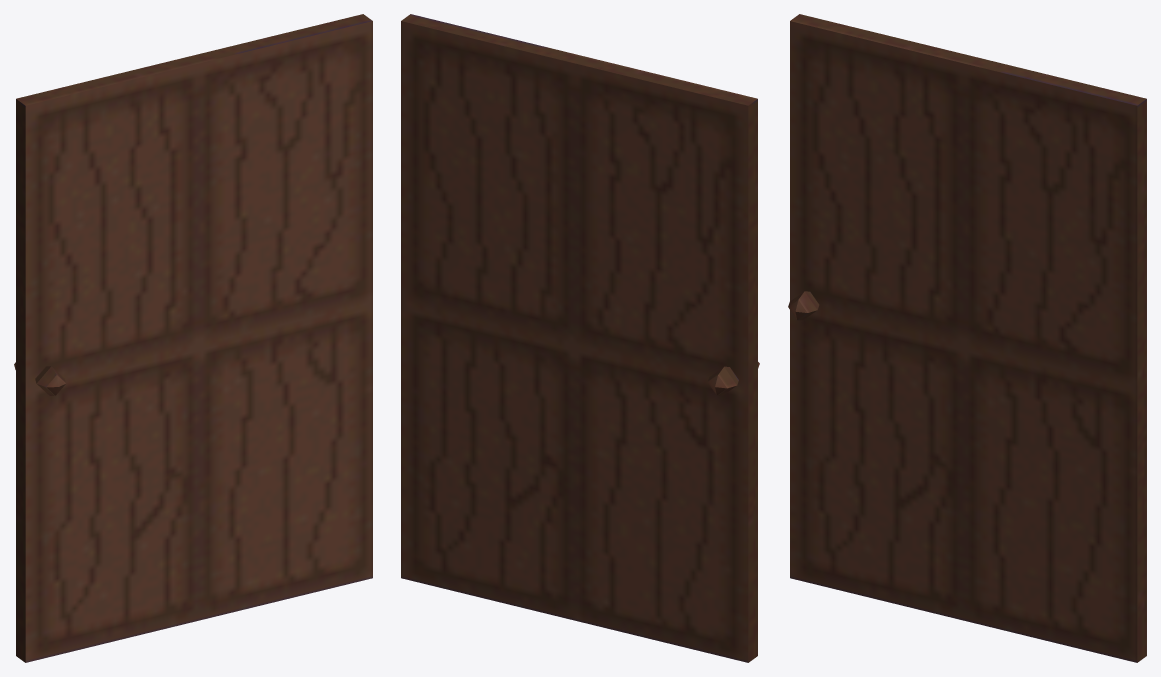
File: woodendoor.fbx
The picture shows the model from 3 angles, left to right: view 1: azimuth 30°, elevation 25°; view 2: azimuth 150°, elevation 25°; view 3: azimuth 330°, elevation 25°; orthographic projection.
Parts seen in each view (by area): view 1: Door; view 2: Door; view 3: Door.
Part boxes in pixels (bbox=[...]): Door: bbox=[14, 14, 372, 662]; Door: bbox=[401, 14, 759, 662]; Door: bbox=[788, 14, 1146, 662].
Size of the model in its own units: 1.61 by 0.2991 by 2.47.
1 material, 1 textured.
